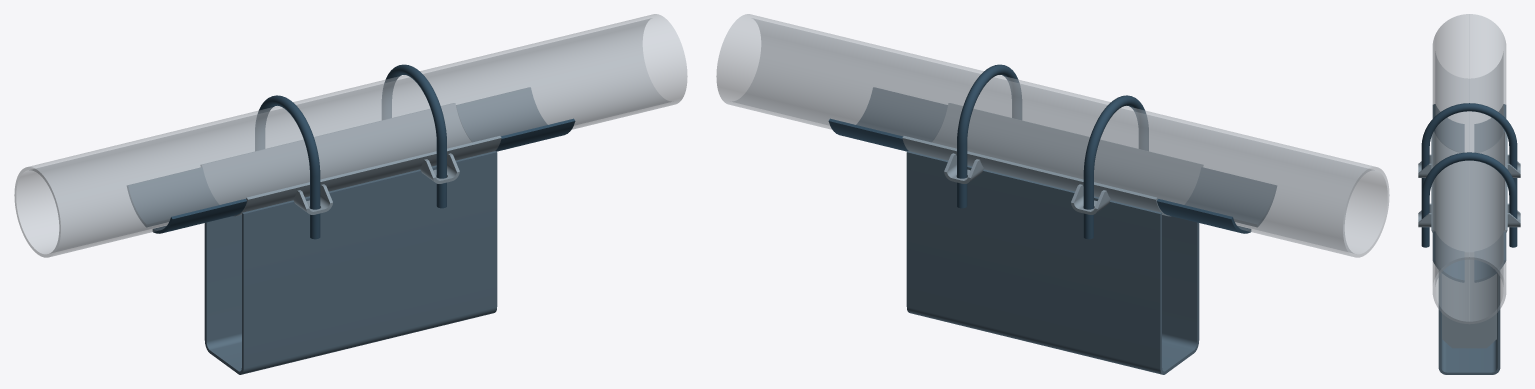
File: TS-670.00.00-11-opora-dn108-H200.glb
3 renders of one model, left to right at view 1: azimuth 30°, elevation 25°; view 2: azimuth 150°, elevation 25°; view 3: azimuth 270°, elevation 25°, orthographic. The views are drawn at different scales.
Parts seen in each view (by area): view 1: truba, skoba_1, podushka_0, upor_-1_1, upor_1_1, homut_-1, homut_1, upor_-1_-1, upor_1_-1, ushko_5, ushko_7; view 2: truba, skoba_1, podushka_0, upor_-1_-1, upor_1_-1, homut_-1, homut_1, upor_-1_1, upor_1_1, ushko_4, ushko_6; view 3: truba, podushka_0, rebro_3, skoba_1, homut_1, homut_-1, upor_1_1, upor_1_-1, upor_-1_1, upor_-1_-1, ushko_4, ushko_5 (+2 smaller).
Part boxes in pixels (bbox=[...]): truba: bbox=[14, 14, 687, 257]; skoba_1: bbox=[204, 151, 497, 374]; podushka_0: bbox=[200, 103, 501, 216]; upor_-1_1: bbox=[127, 167, 218, 226]; upor_1_1: bbox=[456, 87, 547, 141]; homut_-1: bbox=[255, 95, 320, 239]; homut_1: bbox=[382, 64, 446, 208]; upor_-1_-1: bbox=[152, 199, 246, 233]; upor_1_-1: bbox=[495, 118, 575, 151]; ushko_5: bbox=[420, 153, 459, 183]; ushko_7: bbox=[293, 184, 332, 214]; truba: bbox=[716, 14, 1389, 257]; skoba_1: bbox=[906, 151, 1199, 374]; podushka_0: bbox=[902, 103, 1203, 216]; upor_-1_-1: bbox=[1185, 167, 1276, 226]; upor_1_-1: bbox=[856, 87, 947, 141]; homut_-1: bbox=[1083, 95, 1148, 239]; homut_1: bbox=[957, 64, 1021, 208]; upor_-1_1: bbox=[1157, 199, 1251, 233]; upor_1_1: bbox=[828, 118, 908, 151]; ushko_4: bbox=[944, 153, 983, 183]; ushko_6: bbox=[1071, 184, 1110, 214]; truba: bbox=[1432, 14, 1506, 324]; podushka_0: bbox=[1431, 132, 1507, 254]; rebro_3: bbox=[1442, 255, 1496, 348]; skoba_1: bbox=[1438, 271, 1500, 374]; homut_1: bbox=[1421, 152, 1517, 247]; homut_-1: bbox=[1421, 103, 1517, 191]; upor_1_1: bbox=[1474, 231, 1506, 282]; upor_1_-1: bbox=[1432, 231, 1464, 282]; upor_-1_1: bbox=[1474, 104, 1506, 152]; upor_-1_-1: bbox=[1432, 104, 1464, 152]; ushko_4: bbox=[1507, 203, 1520, 227]; ushko_5: bbox=[1418, 203, 1431, 227].
Size of the model in its own units: 840 by 318 by 149.
